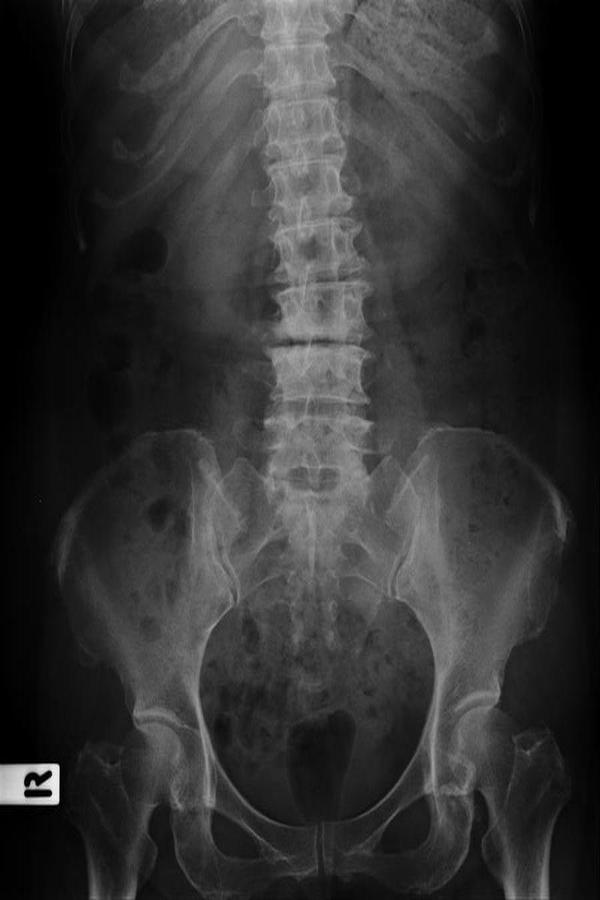lumbar scoliosis: (251, 13, 374, 544)
